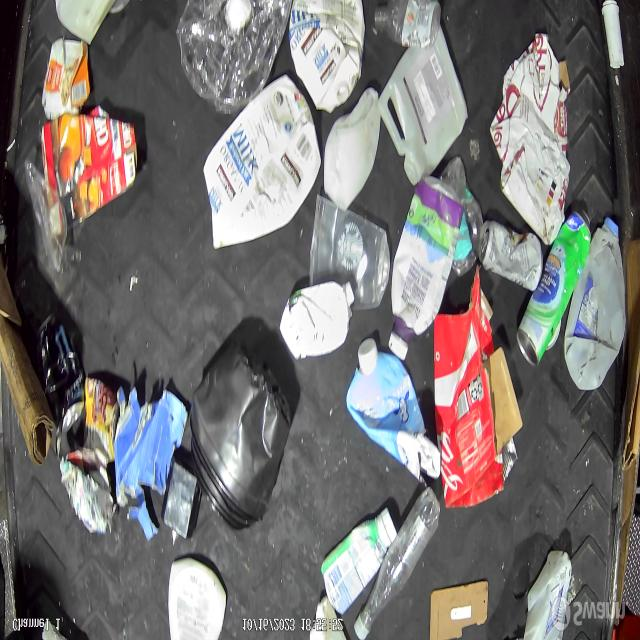can: (516, 207, 593, 368), (34, 313, 85, 435), (478, 218, 544, 294), (82, 376, 120, 464)
milk_jug: (202, 74, 322, 251), (379, 24, 468, 186), (563, 218, 627, 393), (287, 0, 366, 114), (324, 88, 382, 208), (522, 550, 572, 640)
non_white_jug: (346, 339, 442, 484), (389, 177, 464, 361)
plastic_bottle: (354, 487, 442, 640), (374, 0, 441, 51)
